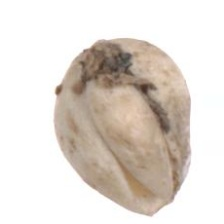L1: (119, 185, 180, 216), (73, 38, 130, 70)
L2: (53, 38, 192, 215)
